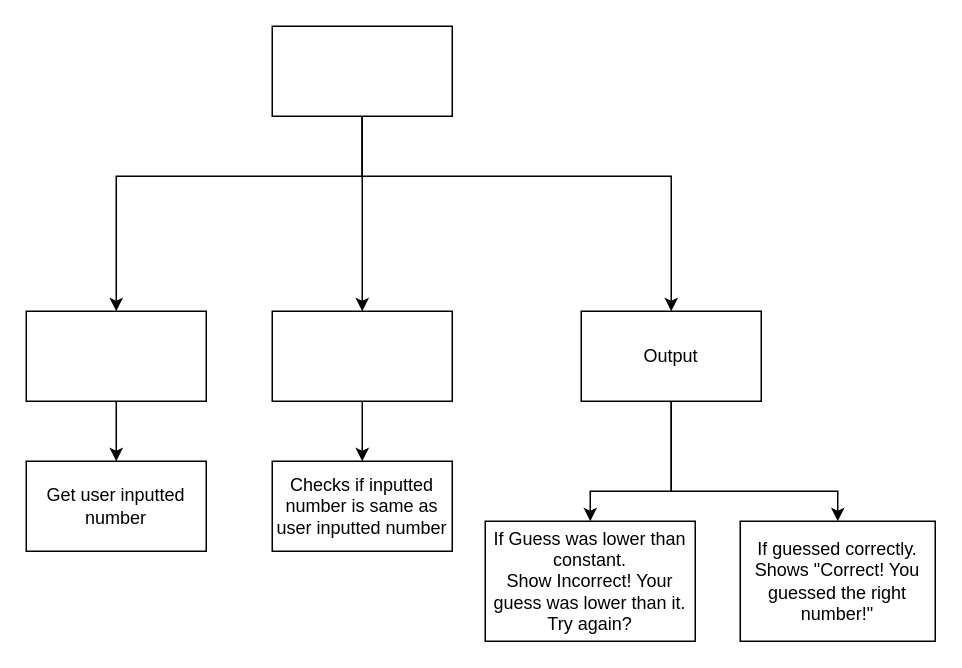
Some shapes in this 962 by 668 pixel diagram are drawn without their labels. The centre of each missing label's shape, as x and y in pixels:
"Input" belongs at [115,355].
"Number Guessing Game" belongs at [361,70].
"Process" belongs at [361,355].
